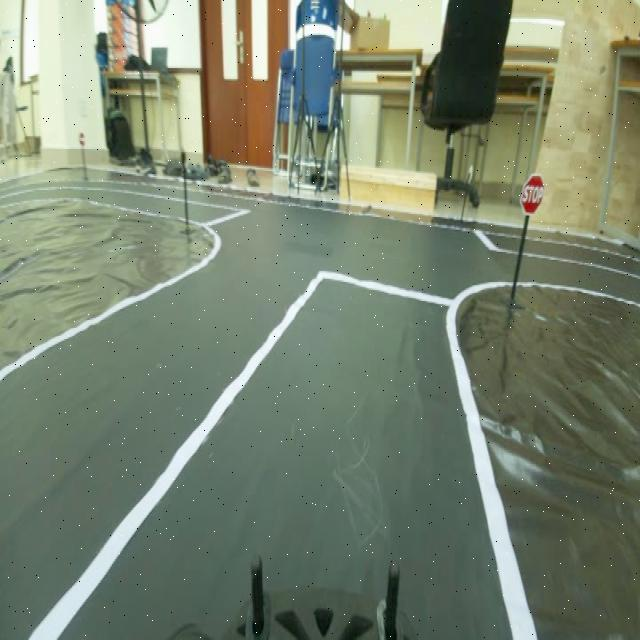stop: (518, 162, 550, 228)
